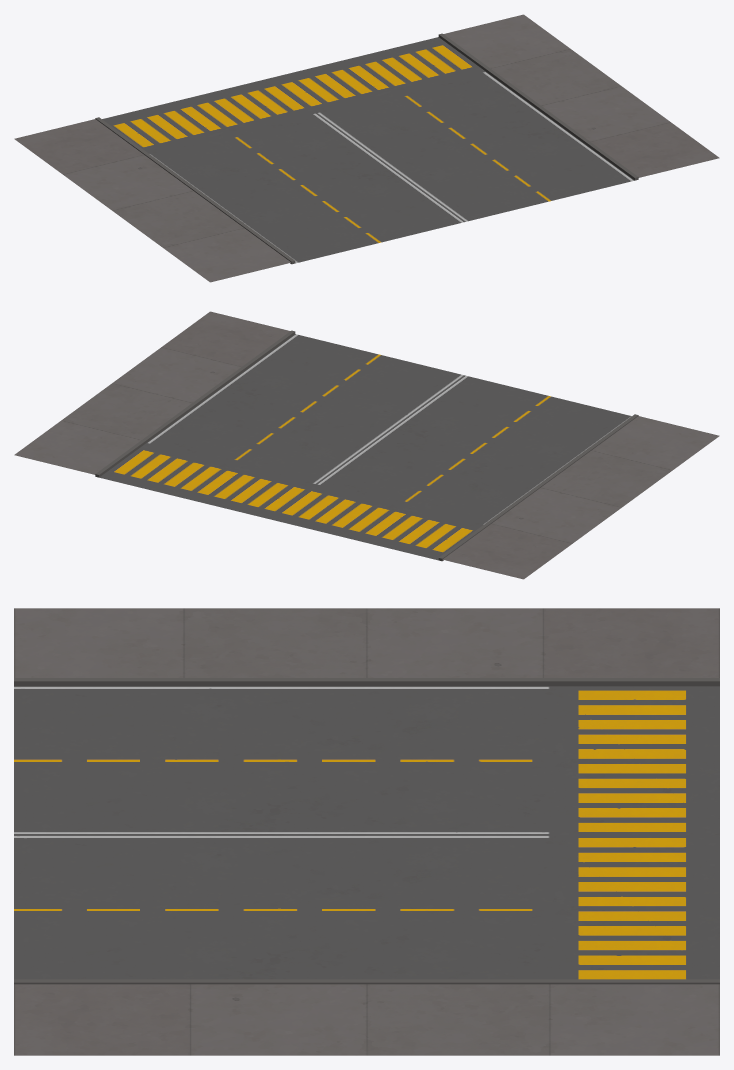
The model's file is SM_Floor_Road_15.fbx.
3 renders of one model, top to bottom at view 1: azimuth 30°, elevation 25°; view 2: azimuth 150°, elevation 25°; view 3: azimuth 270°, elevation 25°, orthographic. The views are drawn at different scales.
Visible parts, largest first — view 1: SM_Floor_Road_15; view 2: SM_Floor_Road_15; view 3: SM_Floor_Road_15.
Part boxes in pixels (left/top/right/bottom): SM_Floor_Road_15: left=14, top=14, right=719, bottom=282; SM_Floor_Road_15: left=14, top=311, right=719, bottom=579; SM_Floor_Road_15: left=14, top=608, right=719, bottom=1055.
Bounding box in the file's own units: 15 × 0.075 × 10.
